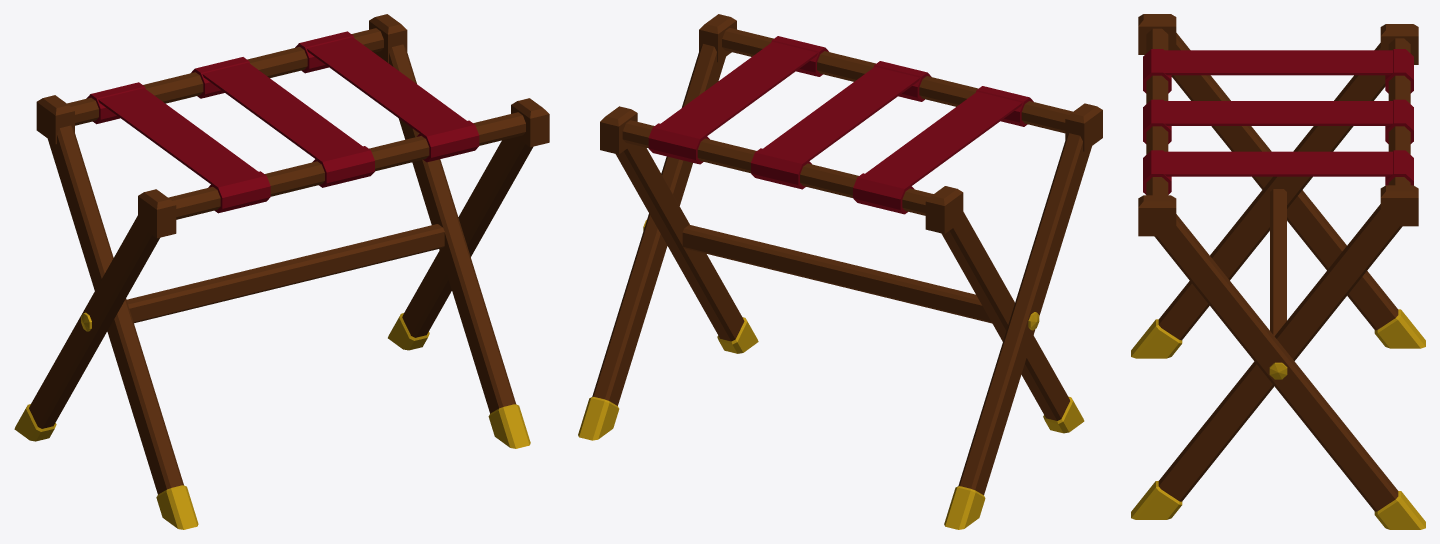
The model's file is folding-luggage-rack-8ffdbc.glb.
3 views of the same model, side by side, from view 1: azimuth 30°, elevation 25°; view 2: azimuth 150°, elevation 25°; view 3: azimuth 270°, elevation 25° (orthographic).
Visible parts, largest first — view 1: rack; view 2: rack; view 3: rack.
Boxes of the visible parts, x1,y1,x2,y2 form: rack: (14, 14, 549, 529); rack: (578, 14, 1102, 529); rack: (1131, 14, 1425, 529).
Size of the model in its own units: 0.7 by 0.55 by 0.4498.
